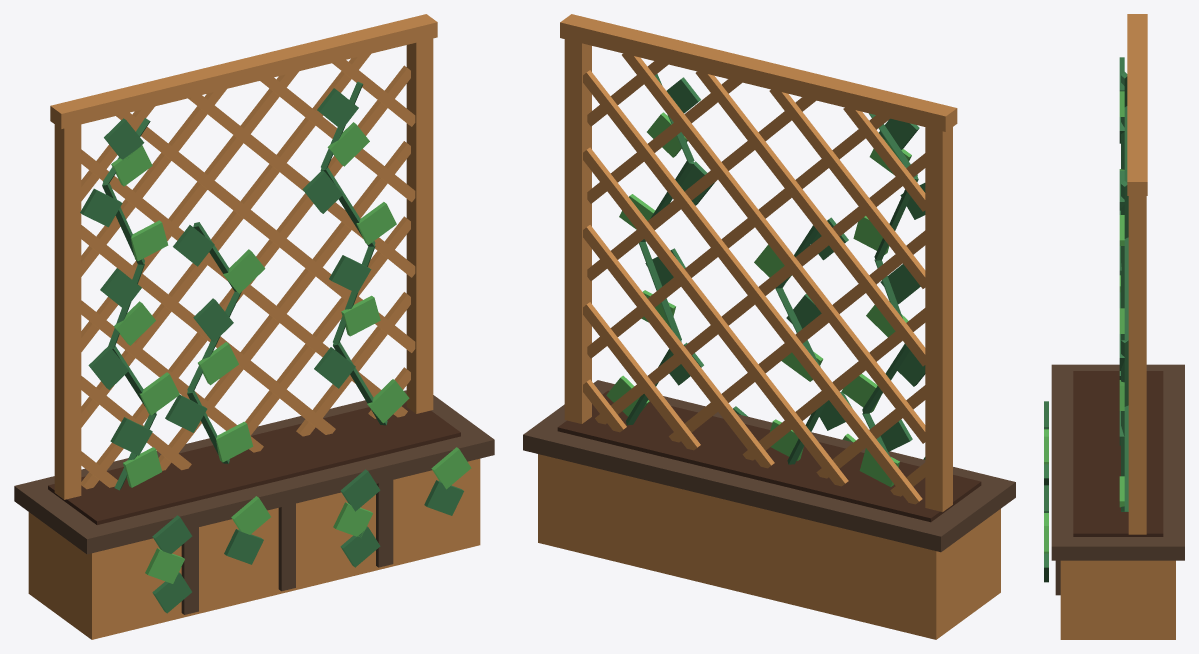
Rendered from CatCafe_Decor_IvyTrellis.glb.
3 views of the same model, side by side, from view 1: azimuth 30°, elevation 25°; view 2: azimuth 150°, elevation 25°; view 3: azimuth 270°, elevation 25° (orthographic). The views are drawn at different scales.
Visible parts, largest first — view 1: CatCafe_Decor_IvyTrellis; view 2: CatCafe_Decor_IvyTrellis; view 3: CatCafe_Decor_IvyTrellis.
Boxes of the visible parts, x1=… form: CatCafe_Decor_IvyTrellis: x1=14, y1=14, x2=494, y2=639; CatCafe_Decor_IvyTrellis: x1=523, y1=14, x2=1015, y2=639; CatCafe_Decor_IvyTrellis: x1=1044, y1=14, x2=1184, y2=639.
Bounding box in the file's own units: 3.36 × 3.92 × 1.1.
Materials: 1 (1 with a texture image).
